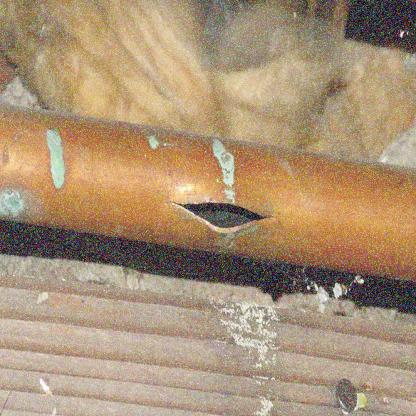burst: (178, 189, 271, 251)
